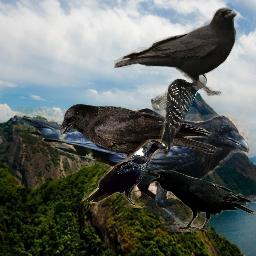Crow: (17, 107, 251, 232), (55, 103, 217, 181), (114, 7, 237, 96), (150, 170, 255, 231), (82, 139, 168, 208)
Woodpecker: (151, 64, 208, 157)
